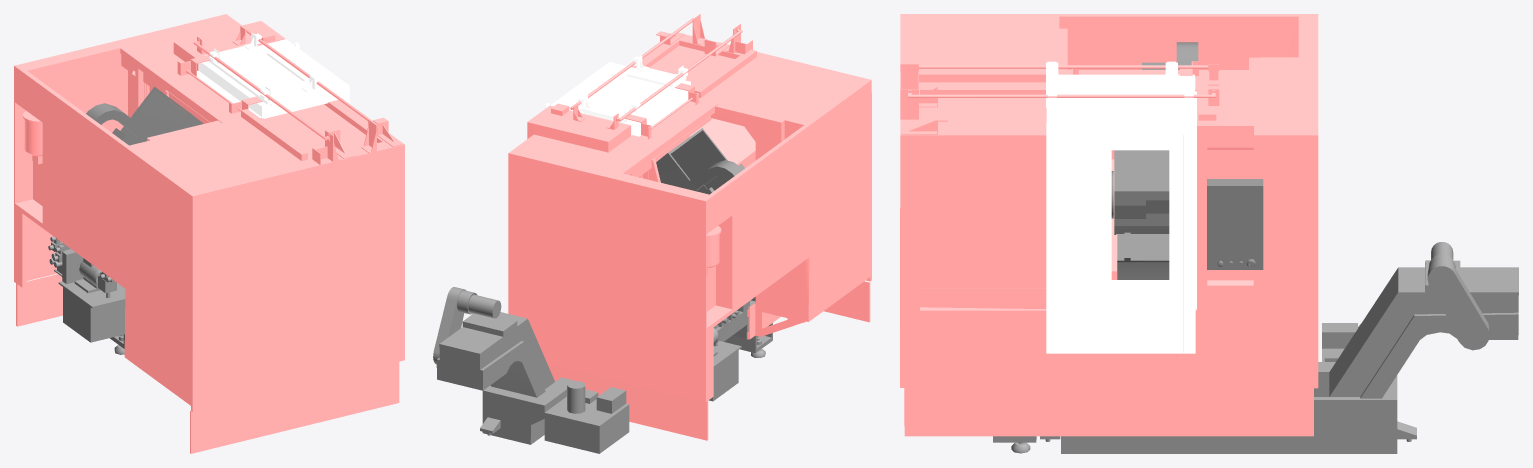
3 views of the same model, side by side, from view 1: azimuth 30°, elevation 25°; view 2: azimuth 150°, elevation 25°; view 3: azimuth 270°, elevation 25° (orthographic). The views are drawn at different scales.
Visible parts, largest first — view 1: DC_Shell_Z, DC_Shell, DC_Pedestal, DC_Move, DC_Shell_Z2, DC_Shell_Z1; view 2: DC_Shell_Z, DC_Pedestal, DC_Shell, DC_Move, DC_Shell_Z2, DC_Shell_Z1; view 3: DC_Shell_Z, DC_Shell, DC_Pedestal, DC_Shell_Z3, DC_Move, xiangzi, DC_Shell_Z2, DC_Shell_Z1.
Boxes of the visible parts, x1,y1,x2,y2 form: DC_Shell_Z: [14, 14, 404, 453]; DC_Shell: [128, 32, 349, 118]; DC_Pedestal: [48, 236, 125, 354]; DC_Move: [86, 86, 203, 145]; DC_Shell_Z2: [177, 26, 403, 164]; DC_Shell_Z1: [135, 29, 378, 140]; DC_Shell_Z: [508, 14, 871, 440]; DC_Pedestal: [433, 287, 772, 453]; DC_Shell: [545, 55, 690, 136]; DC_Move: [656, 128, 744, 194]; DC_Shell_Z2: [573, 15, 805, 339]; DC_Shell_Z1: [570, 18, 742, 176]; DC_Shell_Z: [900, 14, 1318, 436]; DC_Shell: [1046, 61, 1196, 353]; DC_Pedestal: [993, 242, 1518, 453]; DC_Shell_Z3: [1197, 126, 1253, 353]; DC_Move: [1111, 42, 1198, 279]; xiangzi: [1207, 179, 1263, 269]; DC_Shell_Z2: [900, 61, 1219, 134]; DC_Shell_Z1: [908, 65, 1215, 97].
Bounding box in the file's own units: 2.76 × 3.35 × 5.31.
